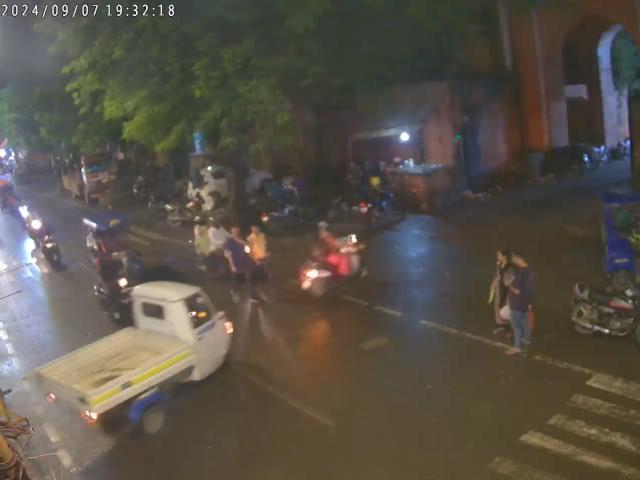lorry: (42, 286, 236, 450)
motorbike: (565, 280, 640, 344)
person: (504, 252, 536, 360)
scooty-rider: (301, 220, 370, 298)
